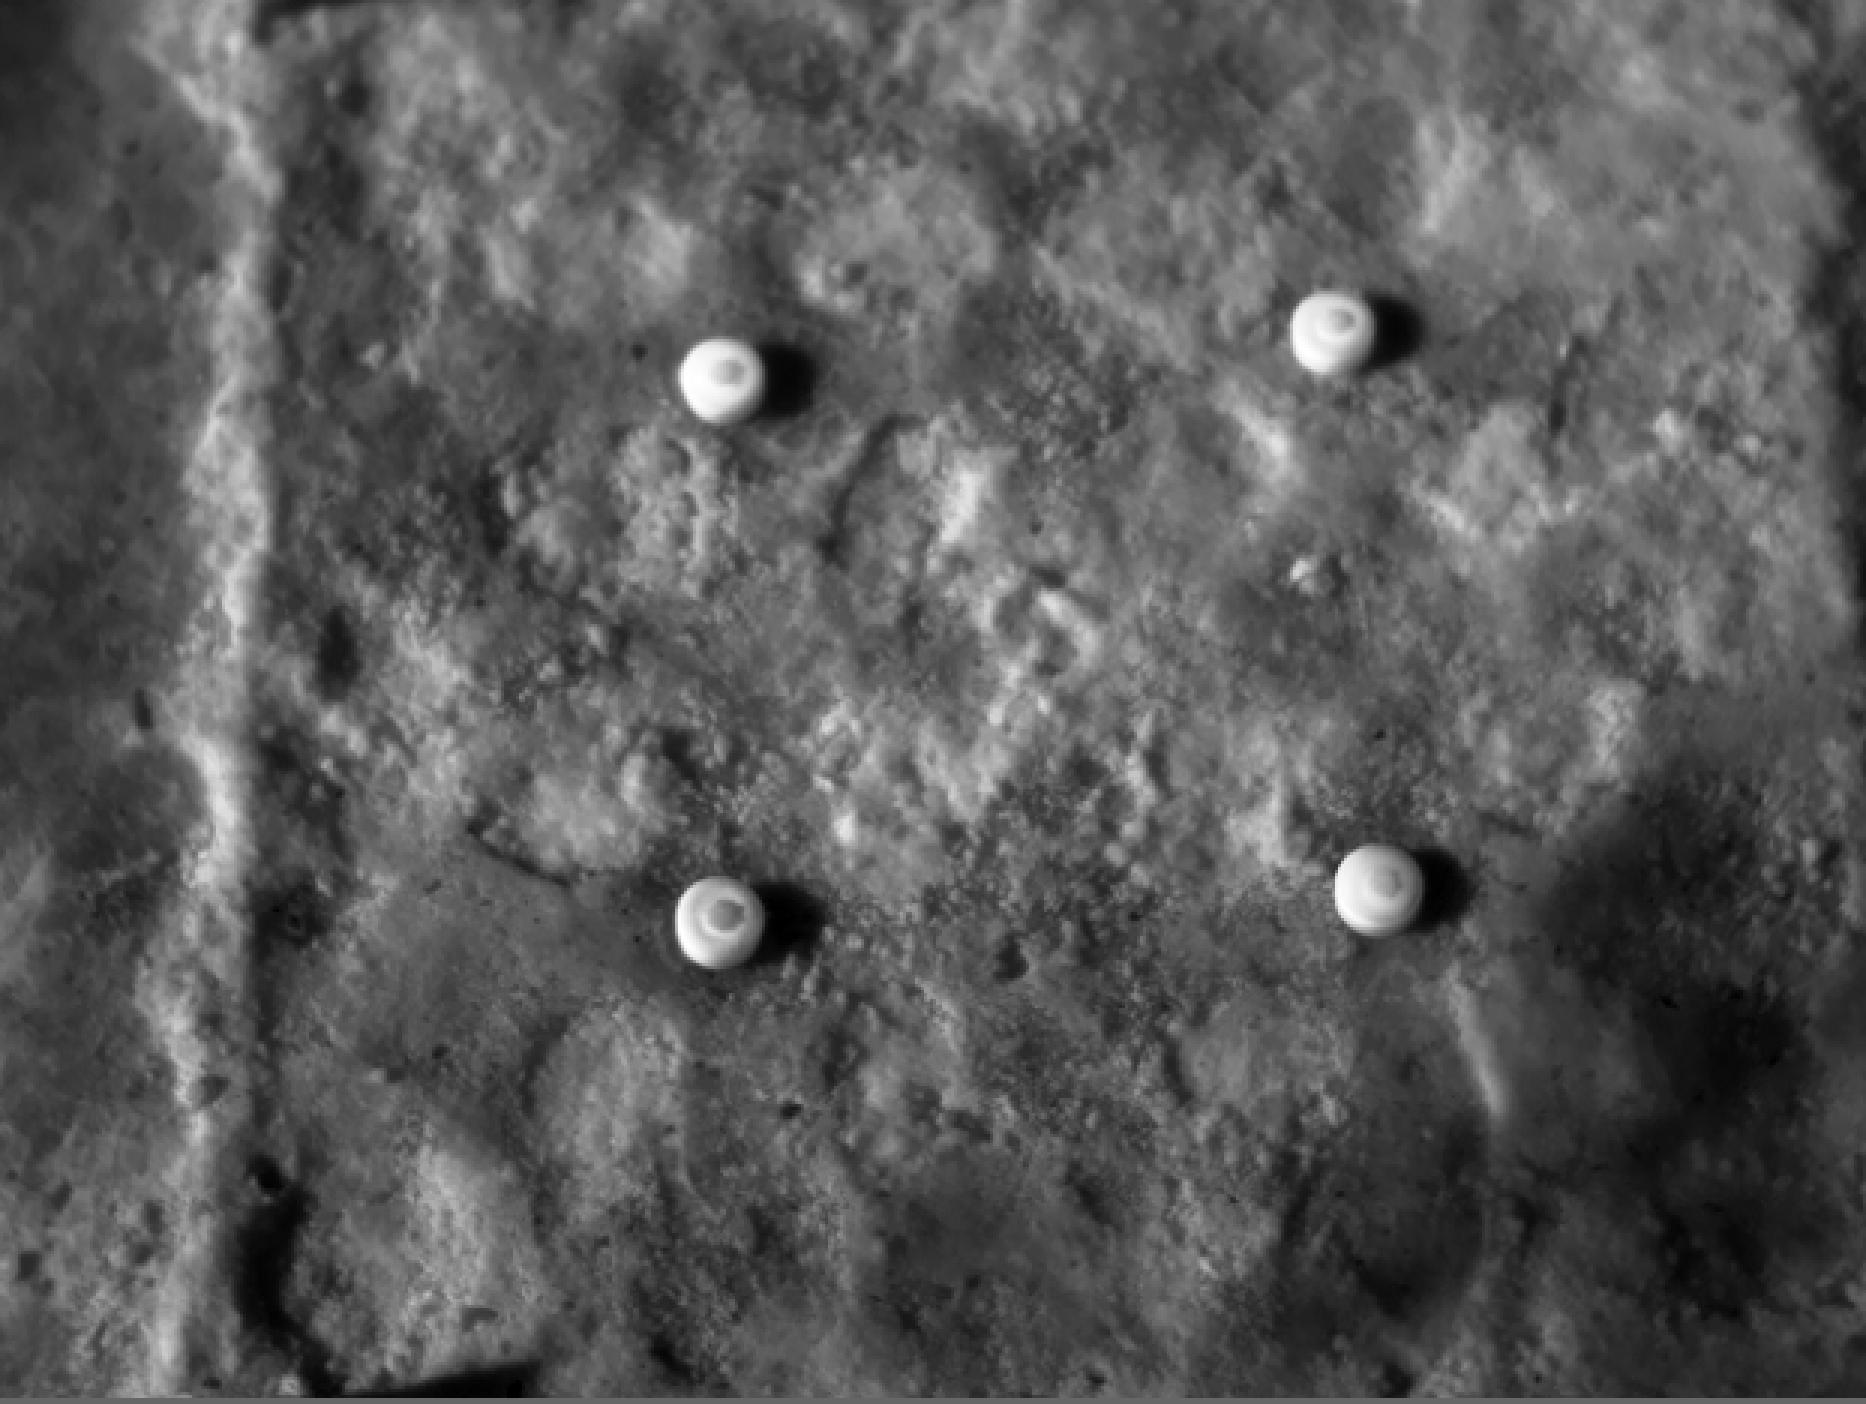mines-gjV8: (1332, 848, 1426, 938), (681, 875, 779, 962), (1292, 288, 1376, 380), (676, 338, 763, 423)
